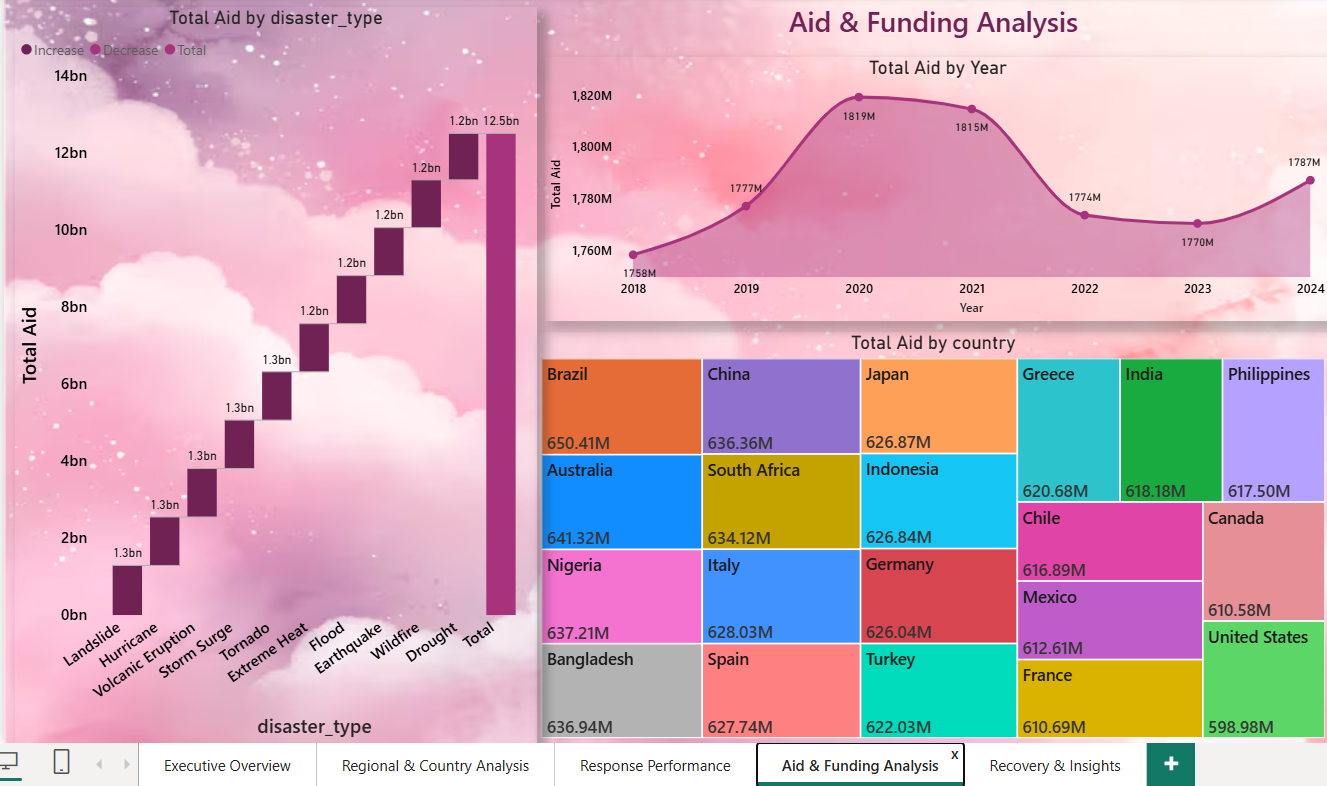

The page's visual inventory and layout, read from the dashboard file:
{"tool":"powerbi","page":{"name":"Aid & Funding Analysis","canvas":[1280,720],"ordinal":3},"visuals":[{"type":"lineChart","fields":{"Category":["DateTable.Year"],"Y":["global_disaster_response_2018_2024.Total Aid"]},"box":[522.4,57.9,757.6,254.6],"z":0},{"type":"treemap","fields":{"Values":["global_disaster_response_2018_2024.Total Aid"],"Details":["global_disaster_response_2018_2024.country"]},"box":[513.9,323.3,766.1,396.9],"z":1000},{"type":"textbox","box":[656.3,0,481.4,57.9],"z":2000},{"type":"waterfallChart","fields":{"Category":["global_disaster_response_2018_2024.disaster_type"],"Y":["global_disaster_response_2018_2024.Total Aid"]},"box":[10.9,9.7,503.1,710.6],"z":3000}]}

Visuals, with their boxes on the page's 1280x720 design canvas (x1, y1, x2, y2). These are canvas units, not pixel positions in the 1327x786 screenshot, which may show the page scaled, cropped or inside an application window:
lineChart - DateTable.Year x global_disaster_response_2018_2024.Total Aid: <region>522, 58, 1280, 312</region>
treemap - global_disaster_response_2018_2024.Total Aid x global_disaster_response_2018_2024.country: <region>514, 323, 1280, 720</region>
textbox: <region>656, 0, 1138, 58</region>
waterfallChart - global_disaster_response_2018_2024.disaster_type x global_disaster_response_2018_2024.Total Aid: <region>11, 10, 514, 720</region>
